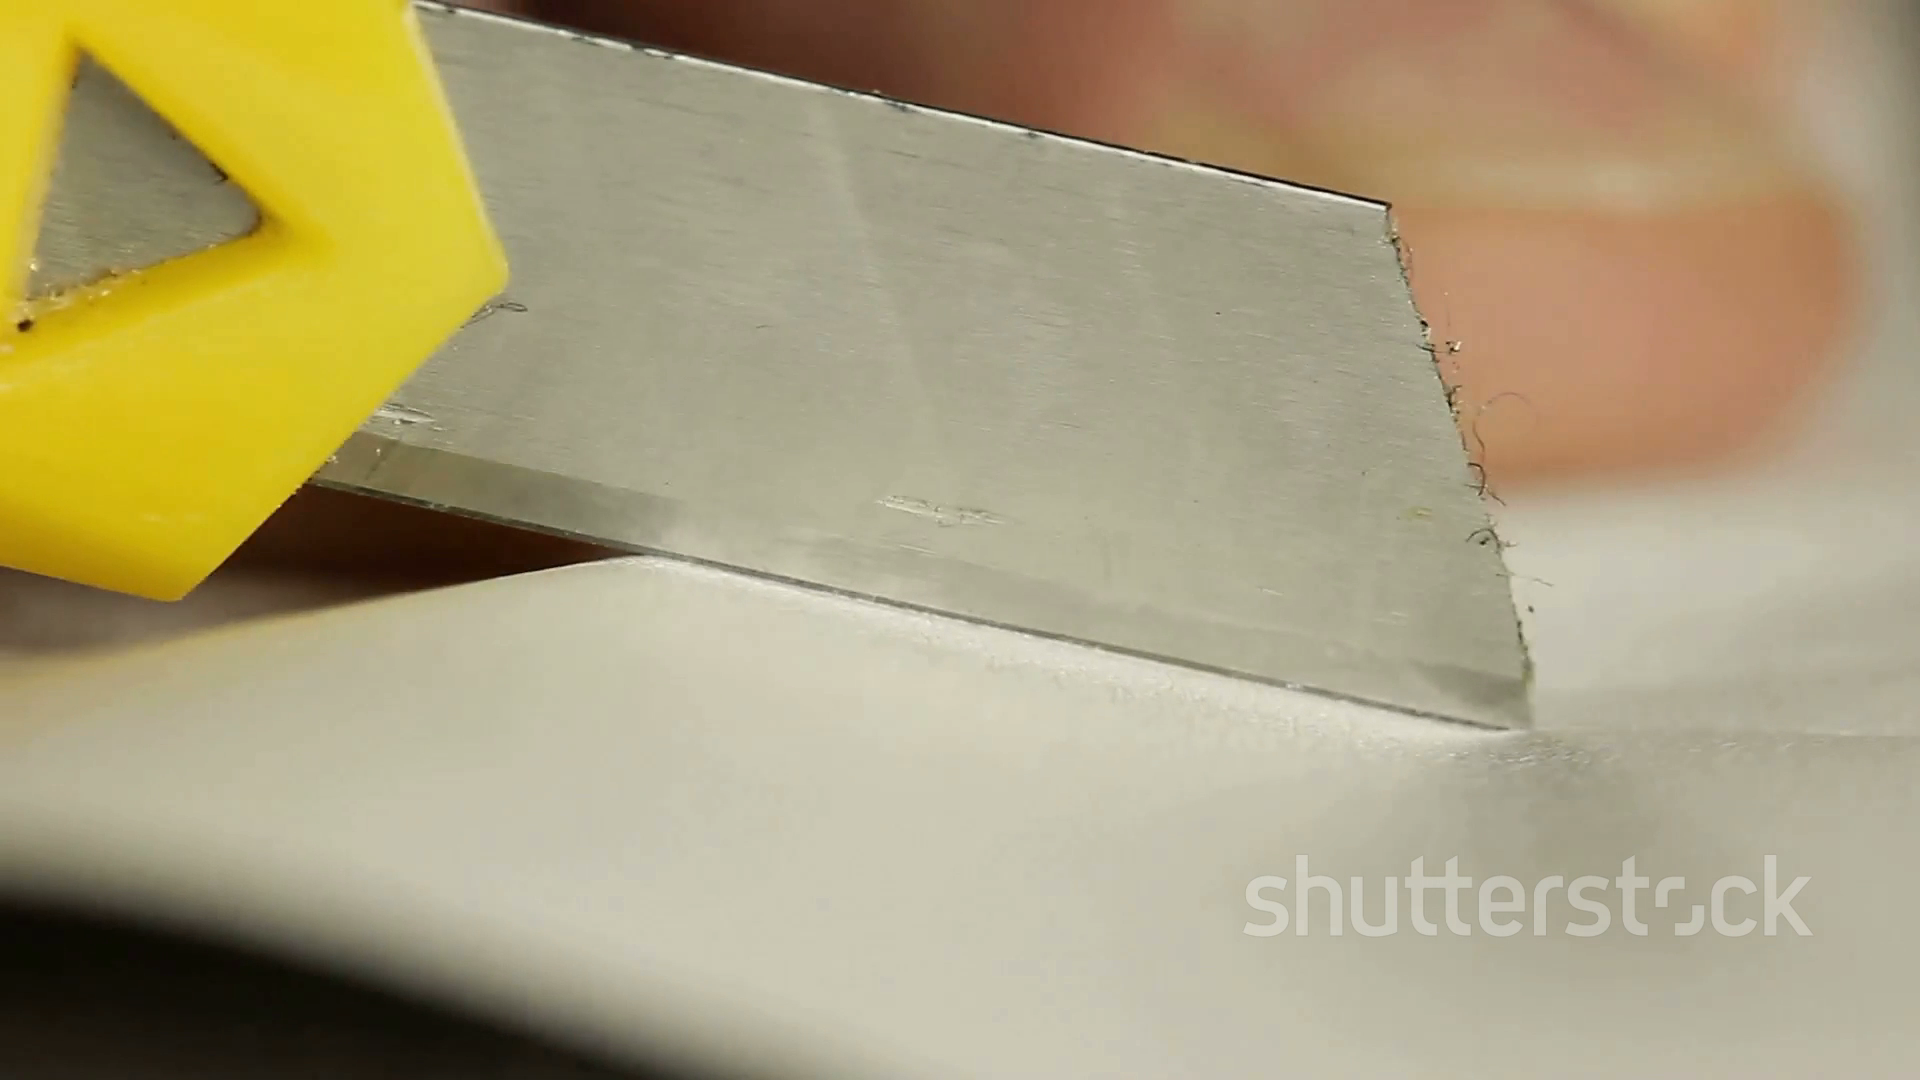cortante: (303, 0, 1539, 736)
